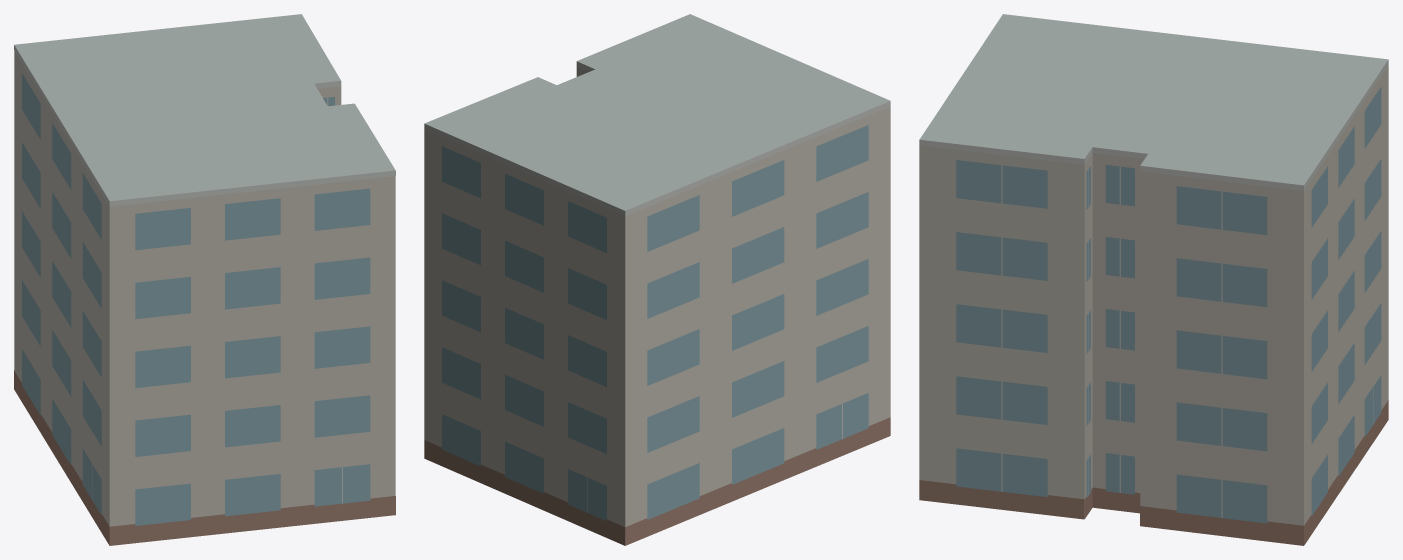
The model's file is survey-upis-32662829.glb.
3 renders of one model, left to right at view 1: azimuth 30°, elevation 25°; view 2: azimuth 150°, elevation 25°; view 3: azimuth 270°, elevation 25°, orthographic. The views are drawn at different scales.
Visible parts, largest first — view 1: survey-upis-32662829.tmp; view 2: survey-upis-32662829.tmp; view 3: survey-upis-32662829.tmp.
Part boxes in pixels (x1,y1,x2,y2): survey-upis-32662829.tmp: (14,14,395,545); survey-upis-32662829.tmp: (424,14,890,545); survey-upis-32662829.tmp: (919,14,1388,545).
Size of the model in its own units: 15.57 by 15.25 by 18.
